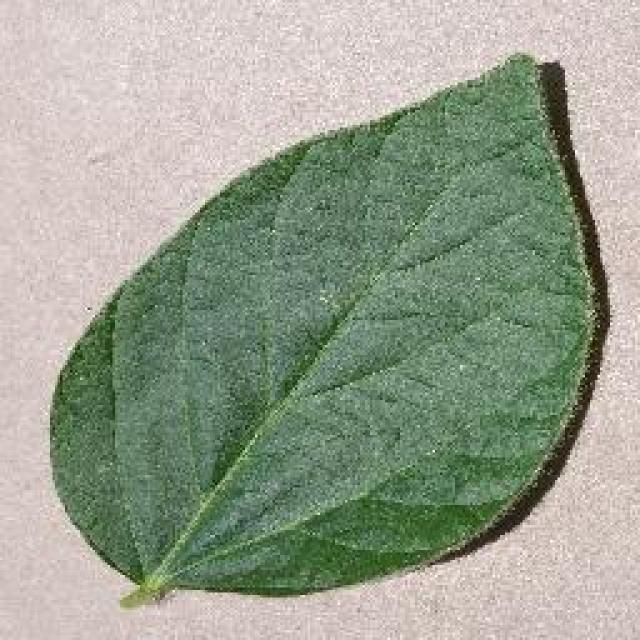Soy_healthy: (85, 97, 608, 549)
